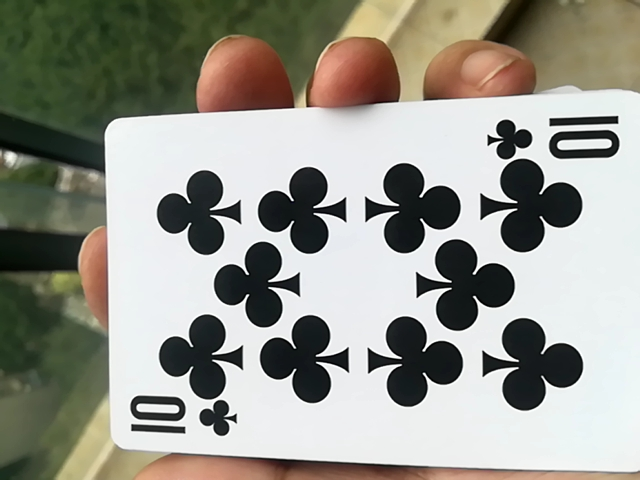mh 10: (99, 119, 637, 473)
